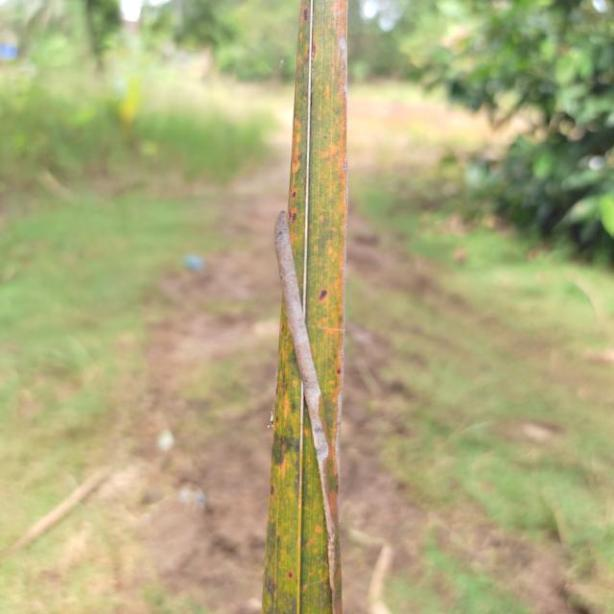Kalium: (259, 0, 352, 614)
